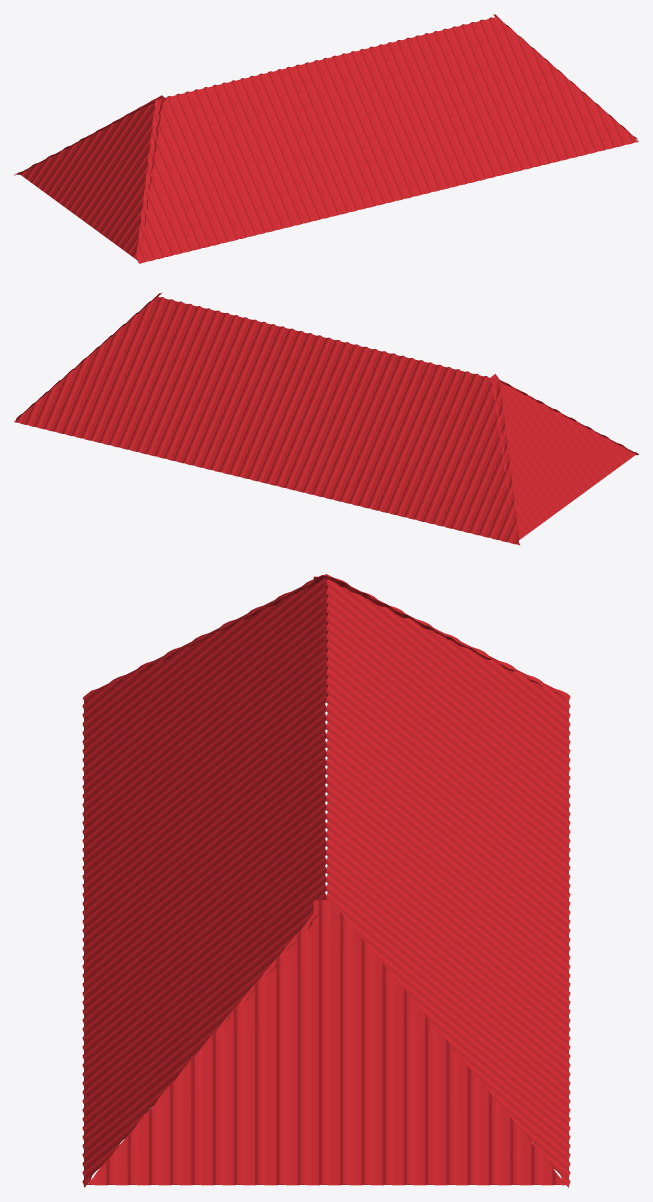
The model's file is profnastilp20_3.glb.
The picture shows the model from 3 angles, top to bottom: view 1: azimuth 30°, elevation 25°; view 2: azimuth 150°, elevation 25°; view 3: azimuth 270°, elevation 25°; orthographic projection. The views are drawn at different scales.
Parts seen in each view (by area): view 1: PROFNASTIL P20 EV3.; view 2: PROFNASTIL P20 EV3.; view 3: PROFNASTIL P20 EV3..
Boxes of the visible parts, x1,y1,x2,y2 form: PROFNASTIL P20 EV3.: [14, 14, 638, 263]; PROFNASTIL P20 EV3.: [14, 292, 638, 545]; PROFNASTIL P20 EV3.: [82, 574, 570, 1187].
Bounding box in the file's own units: 50.25 × 9.85 × 21.06.
